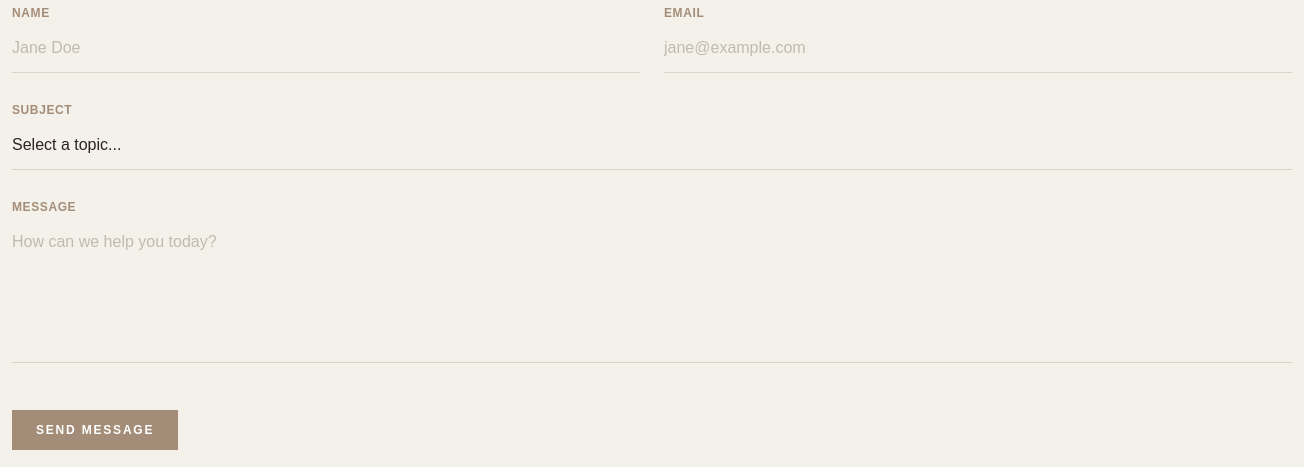
Test case: ContactForm › submits form and shows success state
The width and height of the screenshot is (1304, 467).
Type "Ada Lovelace" into the field labelled "Name".
click(326, 48); type("Ada Lovelace")  # box left=12, top=24, right=640, bottom=73
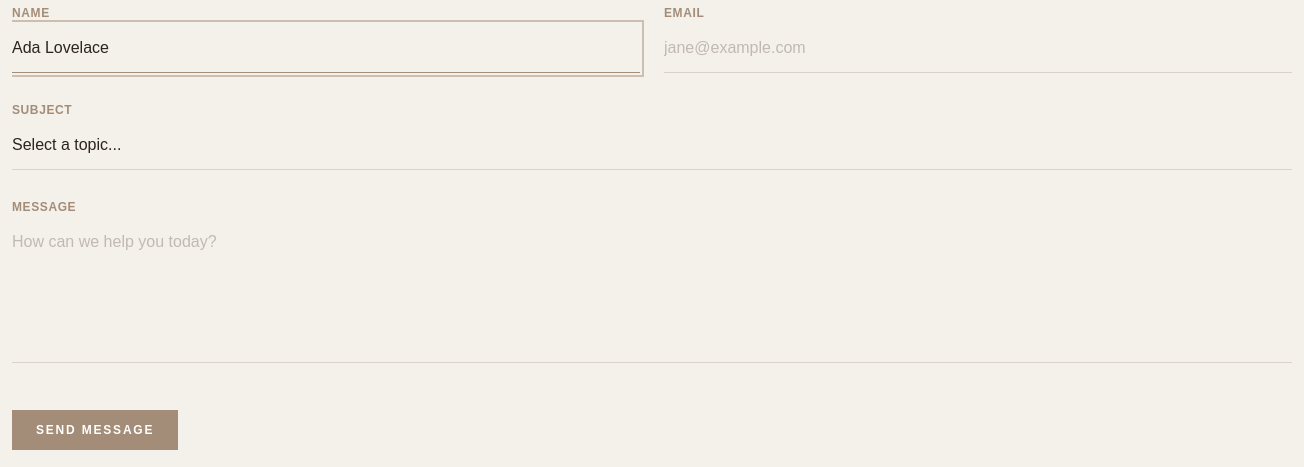
Type "ada@example.com" into the field labelled "Email".
click(978, 48); type("ada@example.com")  # box left=664, top=24, right=1292, bottom=73
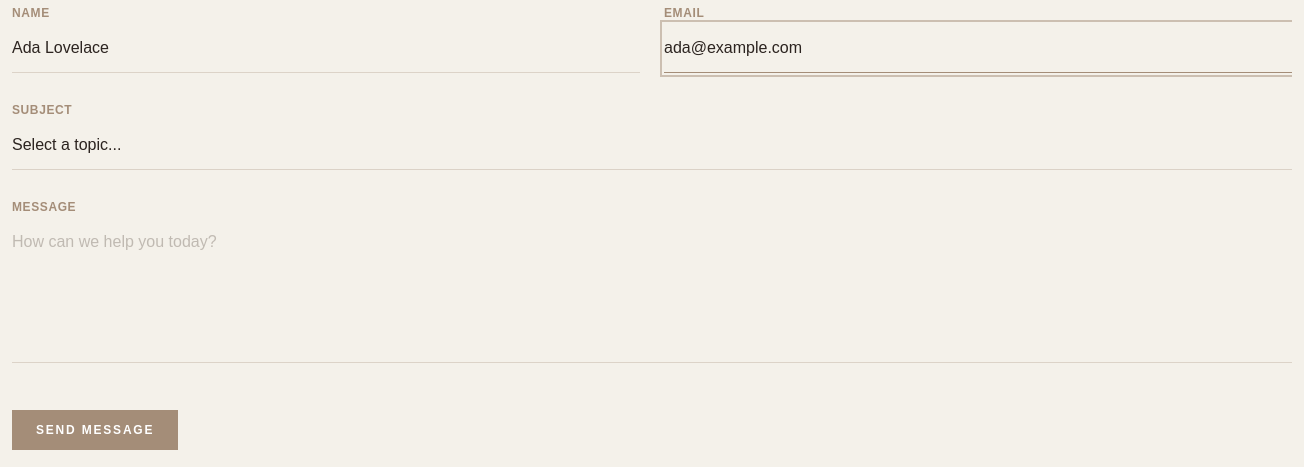
Select "General Inquiry" in the dropdown labelled "Subject" at (652, 146), box left=12, top=121, right=1292, bottom=170
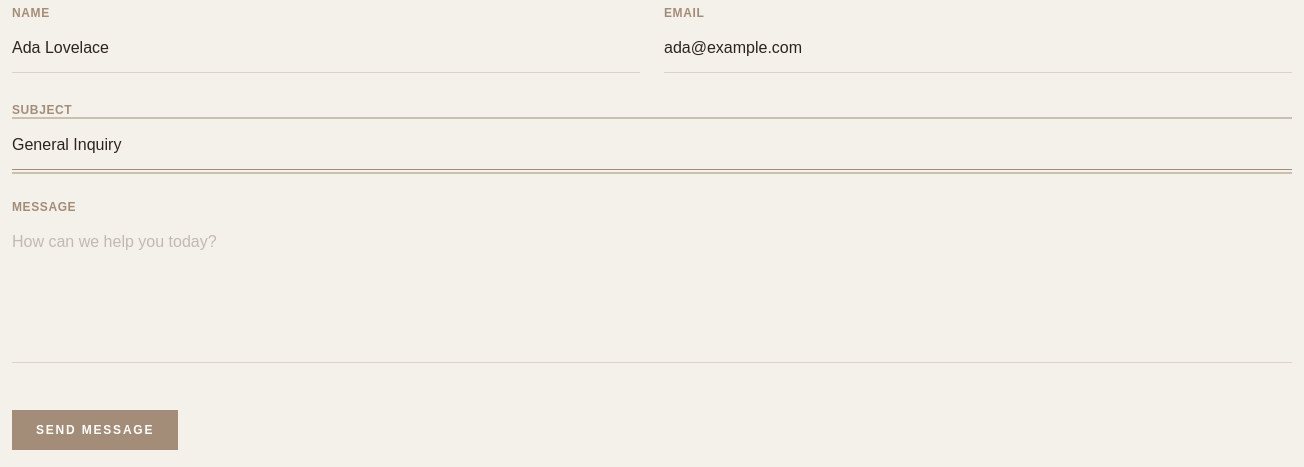
Type "Hello there!" into the text box labelled "Message".
click(652, 290); type("Hello there!")  # box left=12, top=218, right=1292, bottom=363
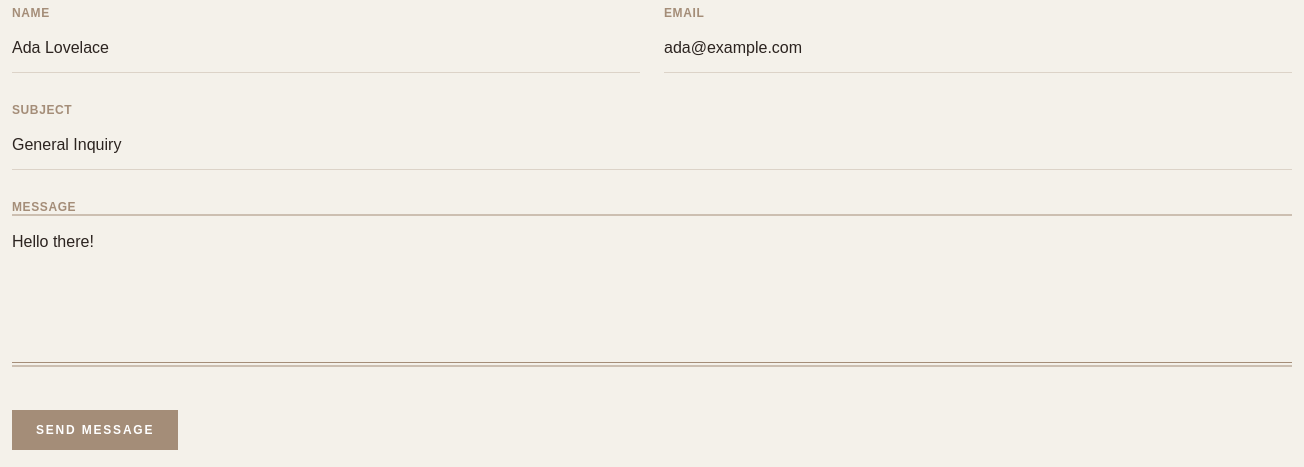
Click the button "Send Message".
click(95, 430)  # box left=12, top=410, right=178, bottom=450
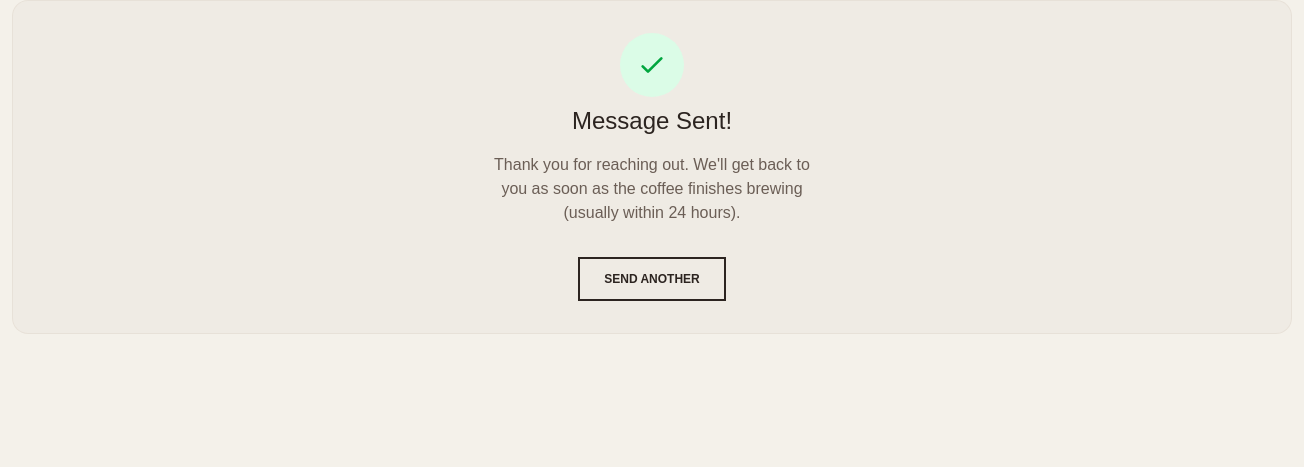
Check: the heading "Message Sent!" is shown, box left=572, top=105, right=732, bottom=137
